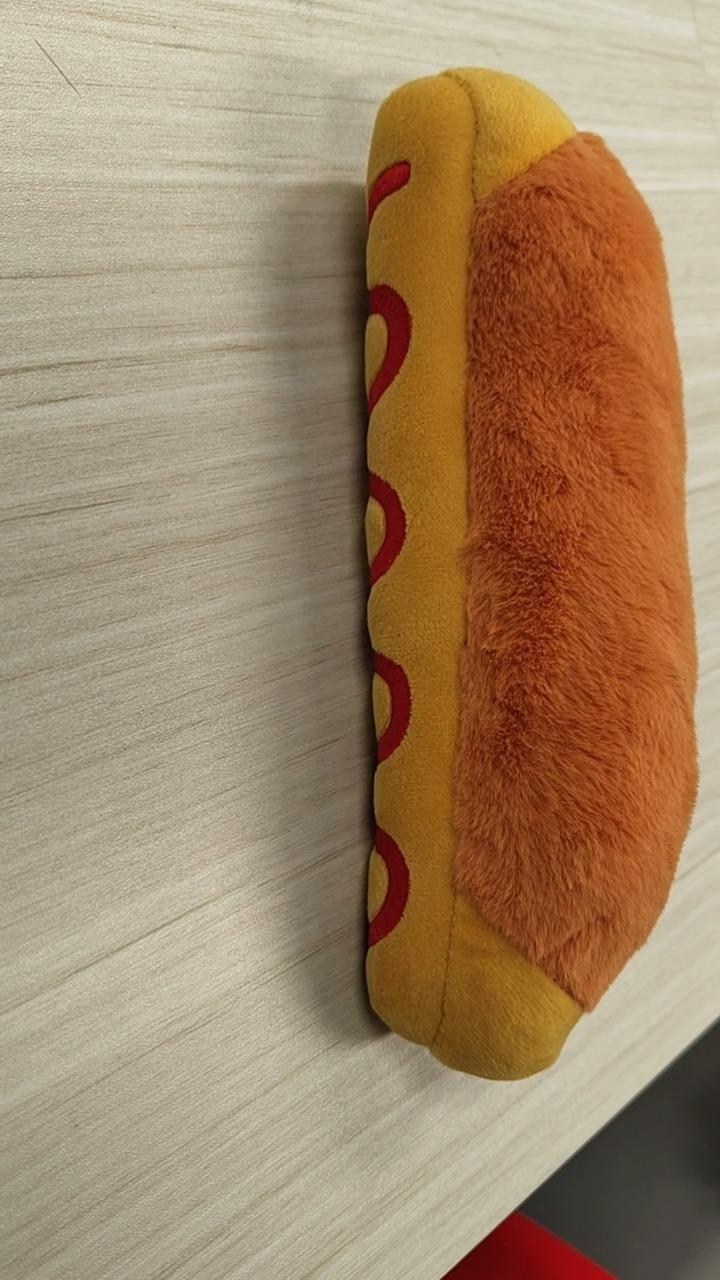hotdog: (359, 65, 699, 1081)
